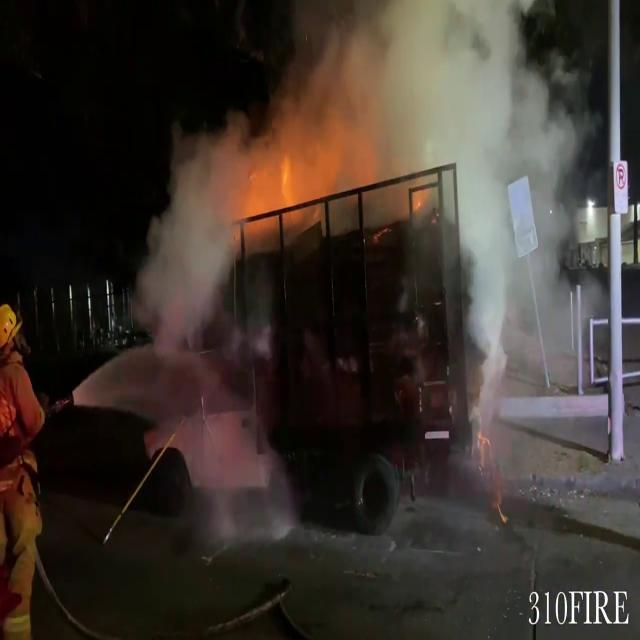Smoke: (420, 0, 582, 480), (264, 1, 568, 224), (135, 115, 253, 336)
